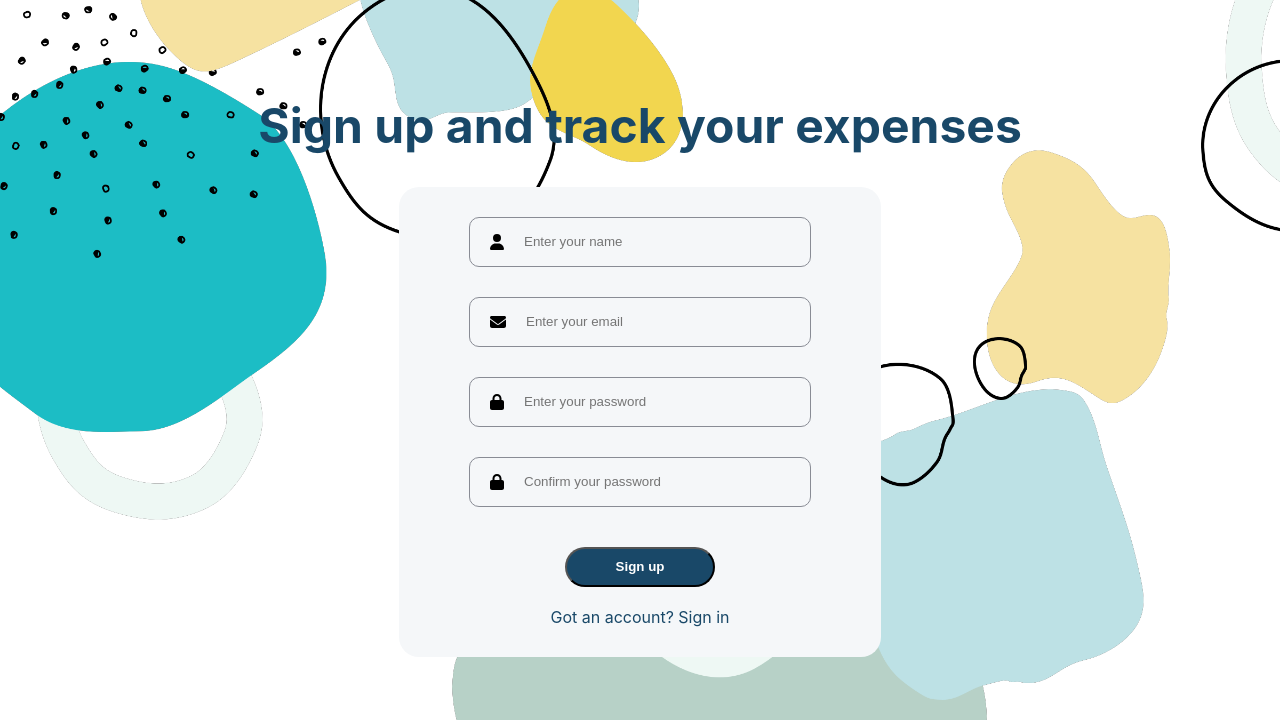
Scenario: Register › when typing in password › if password is too short › shows the correct error
Type "test" into the password field with placeholder "Enter your password" at (640, 402), box x1=504 y1=376 x2=776 y2=428
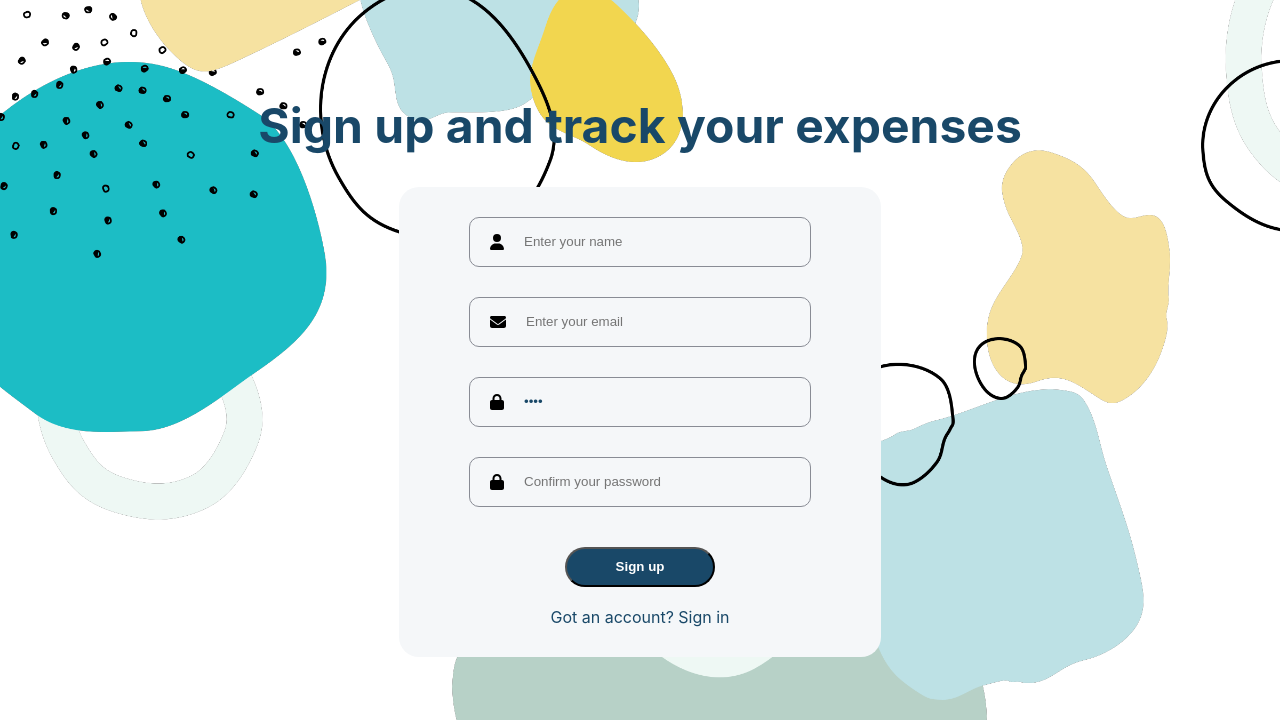
Click the heading "Sign up and track your expenses" at (640, 125), box x1=258 y1=96 x2=1022 y2=154
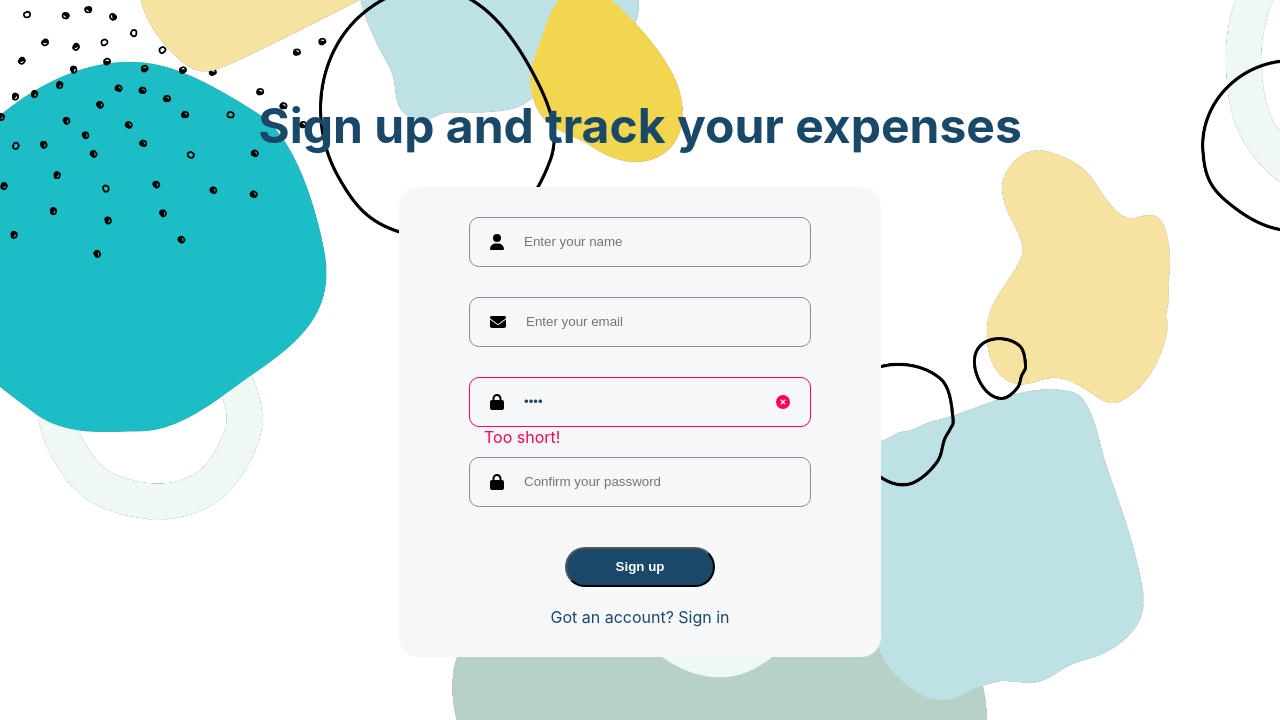
Now the text "Too short!" is shown, box x1=484 y1=427 x2=560 y2=447
